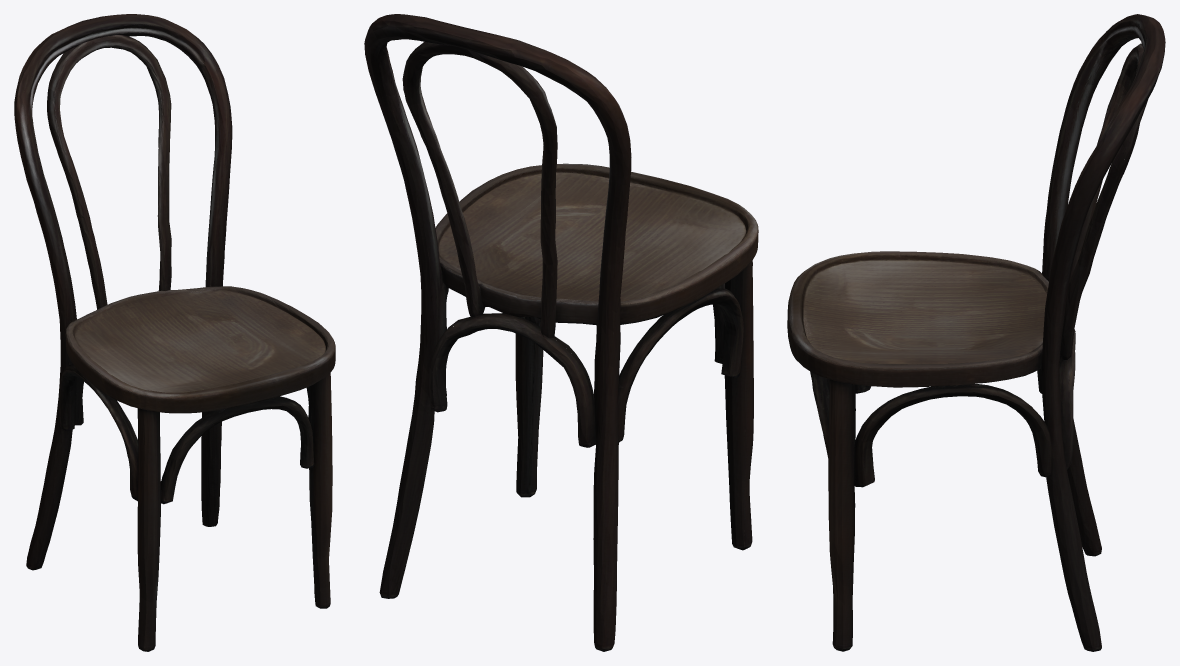
The model's file is chair_wood_brown_my.glb.
3 renders of one model, left to right at view 1: azimuth 30°, elevation 25°; view 2: azimuth 150°, elevation 25°; view 3: azimuth 270°, elevation 25°, orthographic. The views are drawn at different scales.
Parts seen in each view (by area): view 1: world; view 2: world; view 3: world.
Boxes of the visible parts, x1,y1,x2,y2 form: world: (14, 14, 335, 651); world: (364, 14, 758, 651); world: (787, 14, 1165, 651).
Size of the model in its own units: 0.3925 by 0.8733 by 0.5304.
Materials: 1 (1 with a texture image).
